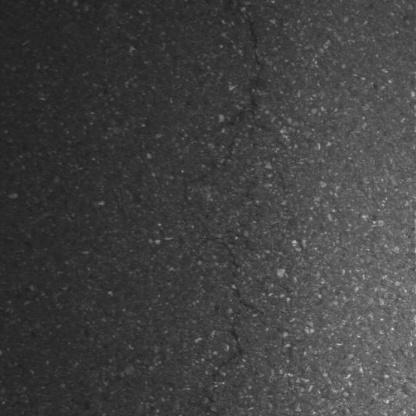Cracks: (210, 325, 249, 389), (234, 0, 268, 73), (206, 398, 235, 416)
